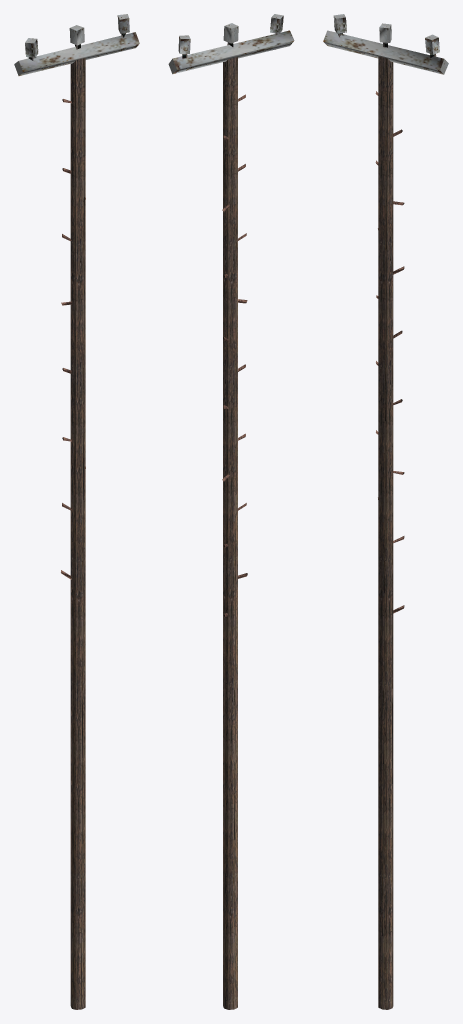
File: telepol1.glb
3 views of the same model, side by side, from view 1: azimuth 30°, elevation 25°; view 2: azimuth 210°, elevation 25°; view 3: azimuth 330°, elevation 25° (orthographic).
Parts seen in each view (by area): view 1: _telepol1; view 2: _telepol1; view 3: _telepol1.
Boxes of the visible parts, box(x1,y1,x2,y2) form: _telepol1: box(14, 14, 139, 1009); _telepol1: box(168, 14, 294, 1009); _telepol1: box(323, 14, 448, 1009).
Size of the model in its own units: 2.44 by 19.57 by 0.3808.
1 material, 1 textured.
